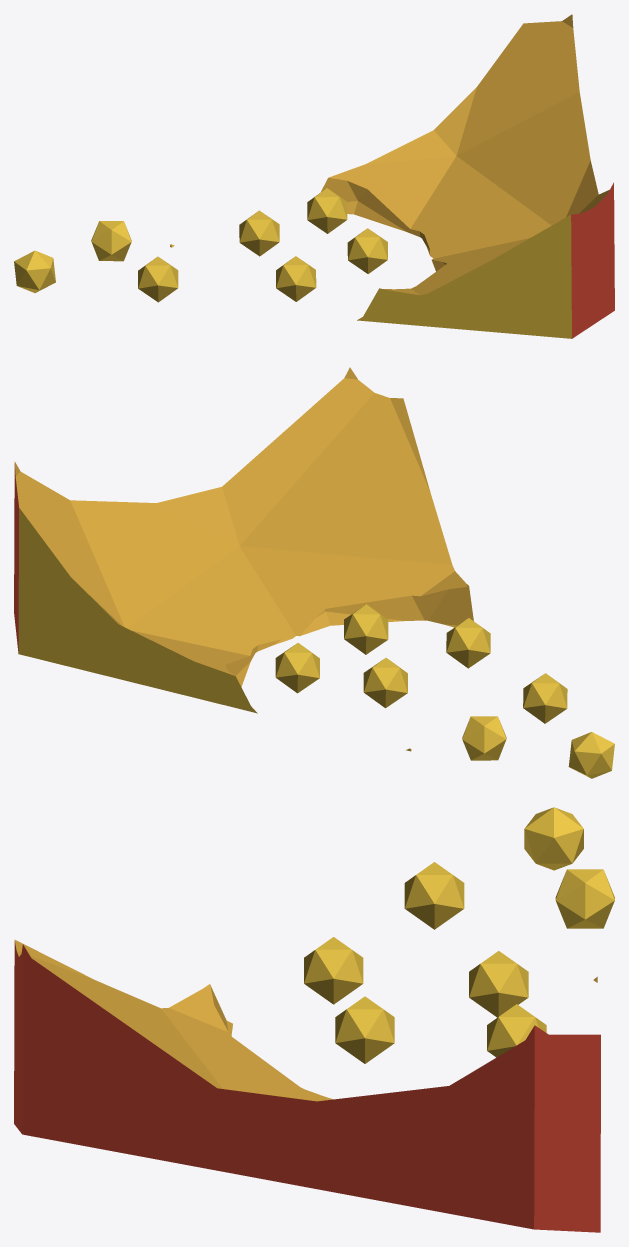
File: Cheese (with 6 bites).fbx
3 renders of one model, top to bottom at view 1: azimuth 30°, elevation 25°; view 2: azimuth 150°, elevation 25°; view 3: azimuth 270°, elevation 25°, orthographic. The views are drawn at different scales.
Visible parts, largest first — view 1: Cheese with 6 bites, Cheese crumb, Cheese crumb.001, Cheese crumb.003, Cheese crumb.002, Cheese crumb.006, Cheese crumb.004, Cheese crumb.005; view 2: Cheese with 6 bites, Cheese crumb, Cheese crumb.001, Cheese crumb.003, Cheese crumb.004, Cheese crumb.006, Cheese crumb.002, Cheese crumb.005; view 3: Cheese with 6 bites, Cheese crumb.001, Cheese crumb, Cheese crumb.002, Cheese crumb.004, Cheese crumb.005, Cheese crumb.003, Cheese crumb.006.
Part boxes in pixels (<box>): Cheese with 6 bites: <box>170,14,614,338</box>; Cheese crumb: <box>14,250,55,292</box>; Cheese crumb.001: <box>91,221,131,261</box>; Cheese crumb.003: <box>239,210,279,256</box>; Cheese crumb.002: <box>138,256,178,302</box>; Cheese crumb.006: <box>307,188,347,233</box>; Cheese crumb.004: <box>347,228,387,273</box>; Cheese crumb.005: <box>276,256,316,301</box>; Cheese with 6 bites: <box>14,367,473,751</box>; Cheese crumb: <box>568,732,614,778</box>; Cheese crumb.001: <box>462,716,506,760</box>; Cheese crumb.003: <box>363,657,407,708</box>; Cheese crumb.004: <box>344,604,388,654</box>; Cheese crumb.006: <box>275,643,319,693</box>; Cheese crumb.002: <box>523,673,567,723</box>; Cheese crumb.005: <box>446,618,490,668</box>; Cheese with 6 bites: <box>14,940,600,1232</box>; Cheese crumb.001: <box>555,869,614,928</box>; Cheese crumb: <box>524,807,583,870</box>; Cheese crumb.002: <box>404,862,464,929</box>; Cheese crumb.004: <box>335,996,394,1063</box>; Cheese crumb.005: <box>304,937,363,1004</box>; Cheese crumb.003: <box>469,951,528,1017</box>; Cheese crumb.006: <box>487,1004,546,1057</box>.
Bounding box in the file's own units: 365 × 98.55 × 234.
Materials: 6 (6 with a texture image).
